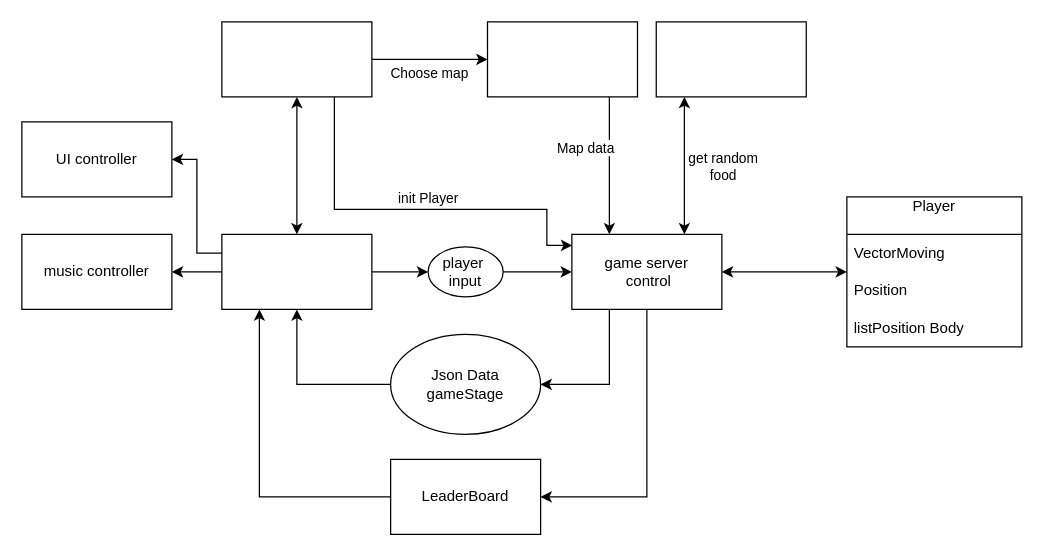
This 1044x556 diagram has some shape labels left out. The centre of each missing label's shape, as x and y in pixels:
Food controller: pixel 730 59
Map controller: pixel 562 59
playerView controller: pixel 296 271
Room controller: pixel 296 59
